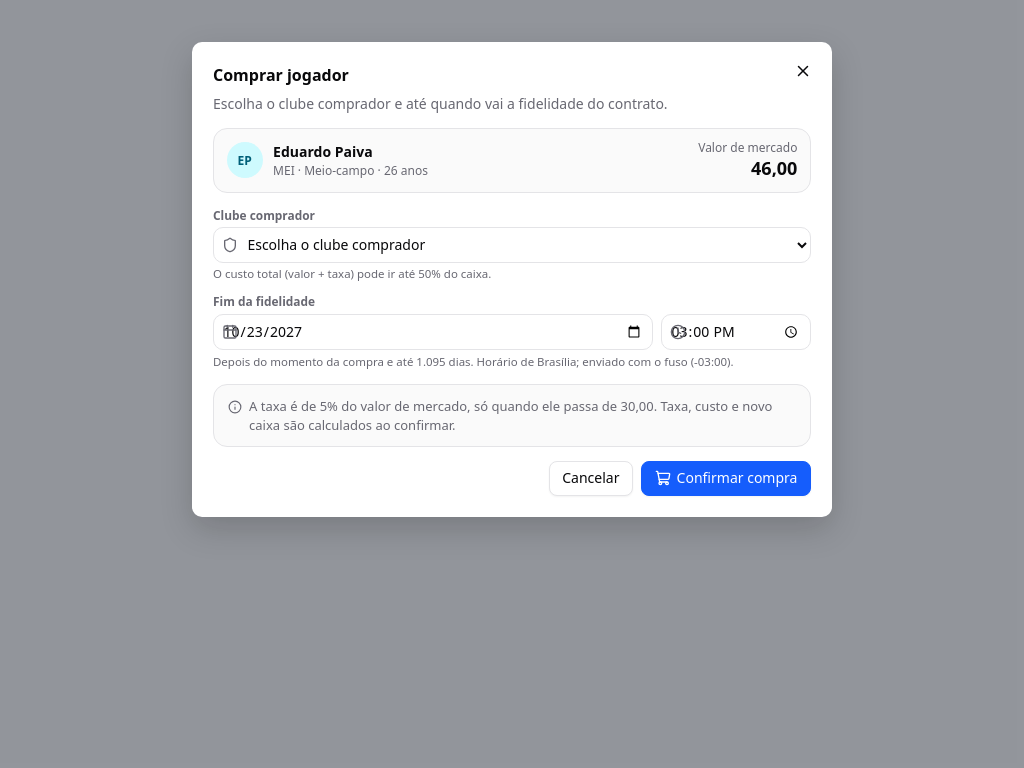
BuyPlayerModal › avisa quando não há conexão e oferece tentar de novo
Select "Águias FC (AGU) · caixa 300,00" in the dropdown labelled "Clube comprador": (512, 245) [213,227,811,263]
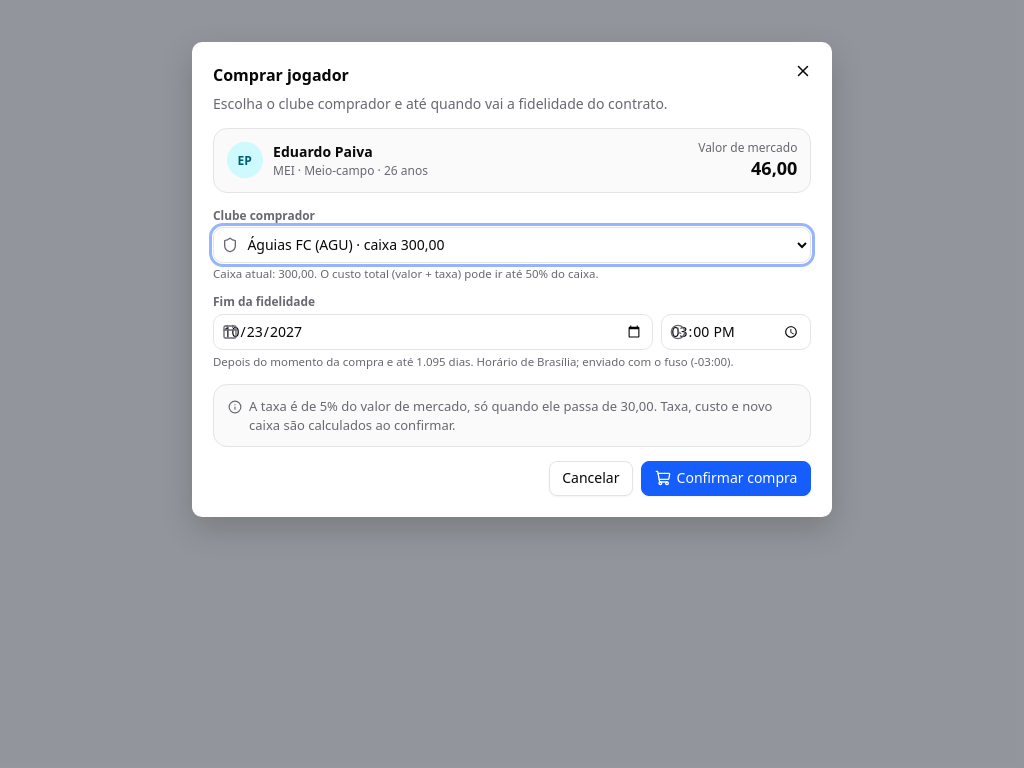
Click the button "Confirmar compra": (726, 478) [641,461,811,496]
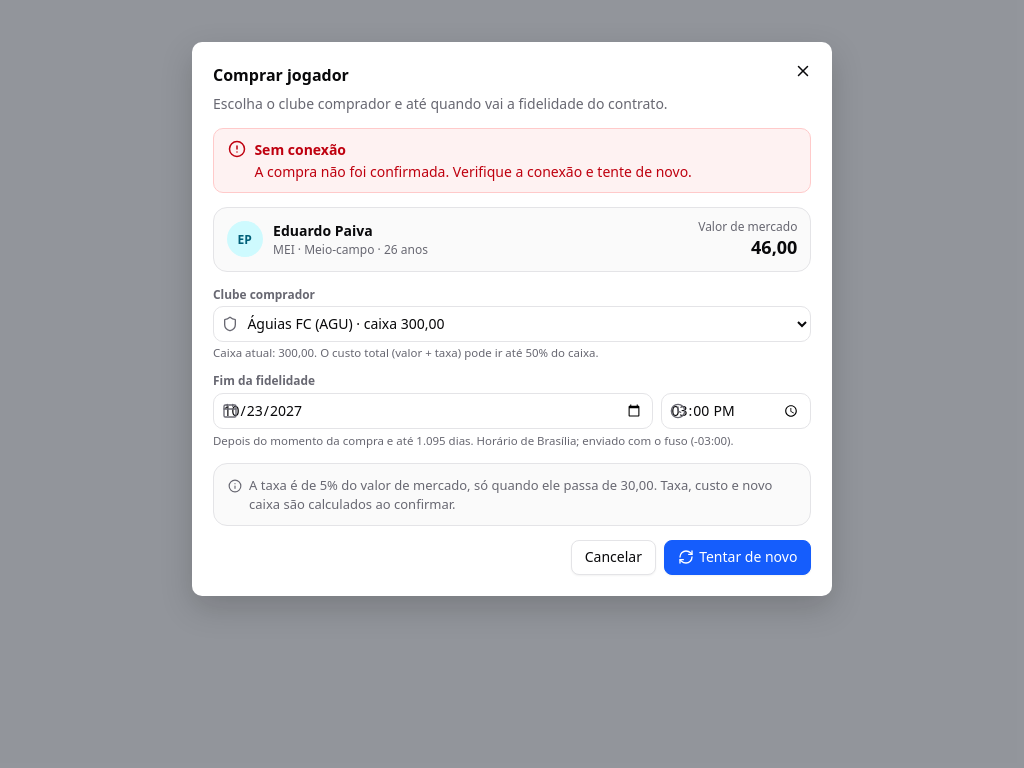
Result: the text "Sem conexão" is shown at [254,140,346,158]
Result: the button "Tentar de novo" is shown at [664,540,811,575]
